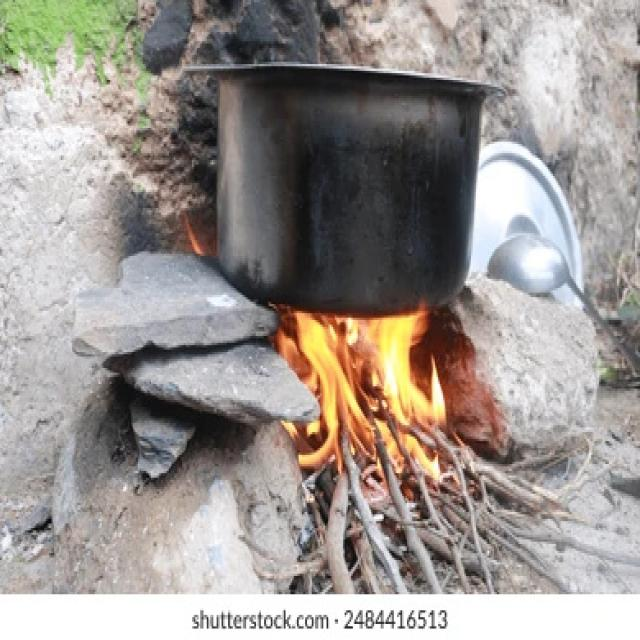fire: (275, 308, 445, 481)
